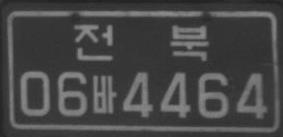0: (18, 70, 50, 116)
4: (236, 72, 269, 119), (160, 71, 192, 118), (122, 71, 153, 118)
6: (196, 71, 229, 118), (56, 70, 88, 116)
바: (91, 74, 117, 114)
전북_D: (72, 24, 208, 61)
